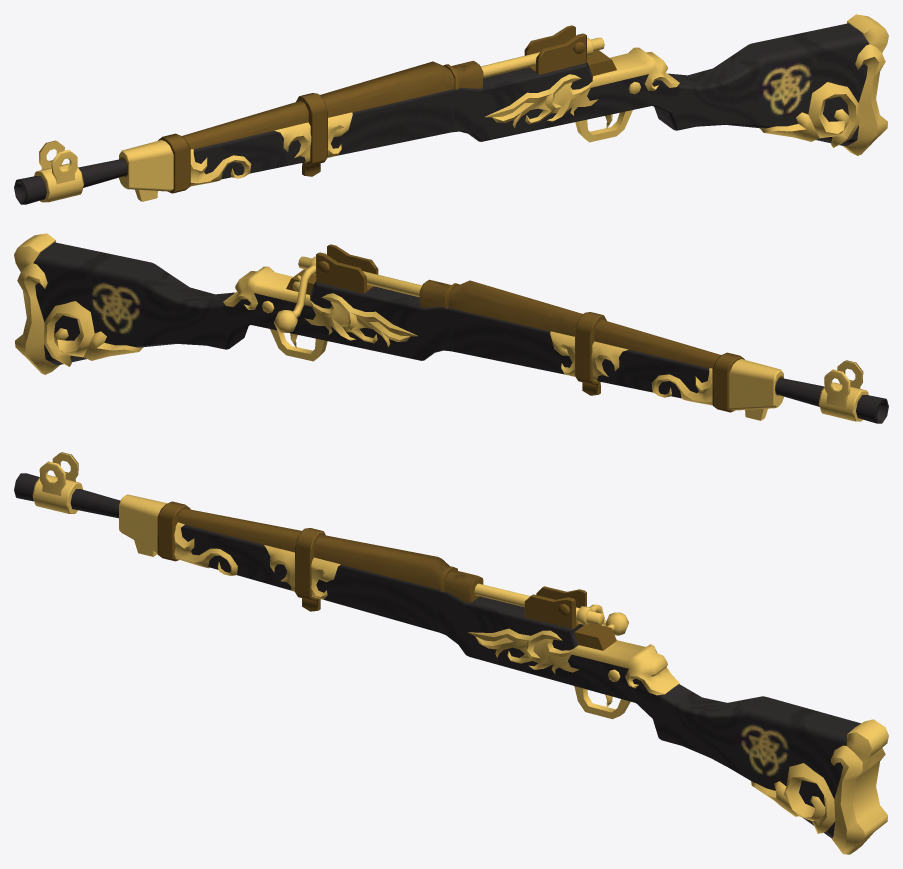
Rendered from Hasumi_Original_Weapon.obj.
3 views of the same model, one above another, from view 1: azimuth 30°, elevation 25°; view 2: azimuth 150°, elevation 25°; view 3: azimuth 330°, elevation 25° (orthographic).
Parts seen in each view (by area): view 1: Hasumi_Original_Weapon; view 2: Hasumi_Original_Weapon; view 3: Hasumi_Original_Weapon.
Part boxes in pixels (<box>): Hasumi_Original_Weapon: <box>14,14,888,204</box>; Hasumi_Original_Weapon: <box>14,233,888,423</box>; Hasumi_Original_Weapon: <box>14,452,888,854</box>.
Bounding box in the file's own units: 0.8184 × 0.1805 × 0.0912.
